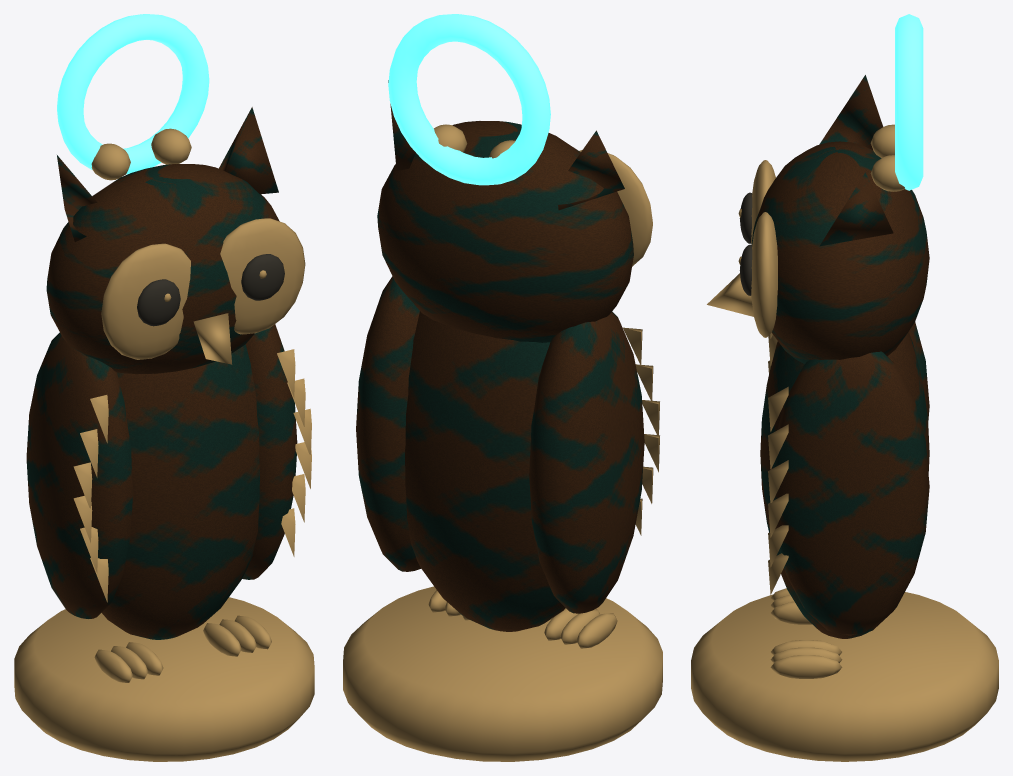
File: statuette.fbx
The picture shows the model from 3 angles, left to right: view 1: azimuth 30°, elevation 25°; view 2: azimuth 150°, elevation 25°; view 3: azimuth 270°, elevation 25°; orthographic projection. The views are drawn at different scales.
Parts seen in each view (by area): view 1: TH_S_Statuette_OwlBody, TH_S_Statuette_Plinth, TH_S_Statuette_OwlHead, TH_S_Statuette_Wing, TH_S_Statuette_Handle, TH_S_Statuette_Wing.001, TH_S_Statuette_FacialDisk, TH_S_Statuette_FacialDisk.001, TH_S_Statuette_Ear.001, TH_S_Statuette_Eye.001, TH_S_Statuette_Eye, TH_S_Statuette_Beak (+9 smaller); view 2: TH_S_Statuette_Plinth, TH_S_Statuette_OwlHead, TH_S_Statuette_OwlBody, TH_S_Statuette_Wing, TH_S_Statuette_Handle, TH_S_Statuette_Wing.001, TH_S_Statuette_FacialDisk, TH_S_Statuette_Ear, TH_S_Statuette_Talon, TH_S_Statuette_Ear.001, TH_S_Statuette_Talon.001, TH_S_Statuette_HandleMount.001 (+1 smaller); view 3: TH_S_Statuette_Plinth, TH_S_Statuette_Wing.001, TH_S_Statuette_OwlHead, TH_S_Statuette_Handle, TH_S_Statuette_OwlBody, TH_S_Statuette_FacialDisk.001, TH_S_Statuette_Ear.001, TH_S_Statuette_Ear, TH_S_Statuette_Talon.005, TH_S_Statuette_Beak, TH_S_Statuette_FacialDisk, TH_S_Statuette_HandleMount.001 (+7 smaller).
Part boxes in pixels (<box>): TH_S_Statuette_OwlBody: <box>101,344,259,639</box>; TH_S_Statuette_Plinth: <box>14,597,314,761</box>; TH_S_Statuette_OwlHead: <box>46,164,279,374</box>; TH_S_Statuette_Wing: <box>26,332,133,618</box>; TH_S_Statuette_Handle: <box>57,14,209,174</box>; TH_S_Statuette_Wing.001: <box>242,324,297,579</box>; TH_S_Statuette_FacialDisk: <box>101,243,190,359</box>; TH_S_Statuette_FacialDisk.001: <box>220,218,305,334</box>; TH_S_Statuette_Ear.001: <box>219,107,278,194</box>; TH_S_Statuette_Eye.001: <box>241,254,284,300</box>; TH_S_Statuette_Eye: <box>137,279,180,326</box>; TH_S_Statuette_Beak: <box>193,313,232,364</box>; TH_S_Statuette_Plinth: <box>343,586,662,761</box>; TH_S_Statuette_OwlHead: <box>377,121,633,342</box>; TH_S_Statuette_OwlBody: <box>405,311,565,631</box>; TH_S_Statuette_Wing: <box>529,311,644,613</box>; TH_S_Statuette_Handle: <box>388,14,550,185</box>; TH_S_Statuette_Wing.001: <box>356,276,420,571</box>; TH_S_Statuette_FacialDisk: <box>579,150,652,266</box>; TH_S_Statuette_Ear: <box>558,130,624,210</box>; TH_S_Statuette_Talon: <box>576,613,617,648</box>; TH_S_Statuette_Ear.001: <box>388,80,415,170</box>; TH_S_Statuette_Talon.001: <box>560,609,600,644</box>; TH_S_Statuette_HandleMount.001: <box>434,124,467,152</box>; TH_S_Statuette_Plinth: <box>691,592,998,761</box>; TH_S_Statuette_Wing.001: <box>772,351,929,635</box>; TH_S_Statuette_OwlHead: <box>751,141,929,363</box>; TH_S_Statuette_Handle: <box>895,14,923,190</box>; TH_S_Statuette_OwlBody: <box>760,332,929,638</box>; TH_S_Statuette_FacialDisk.001: <box>751,212,777,337</box>; TH_S_Statuette_Ear.001: <box>819,172,893,246</box>; TH_S_Statuette_Ear: <box>819,75,883,150</box>; TH_S_Statuette_Talon.005: <box>770,655,842,678</box>; TH_S_Statuette_Beak: <box>707,273,753,316</box>; TH_S_Statuette_FacialDisk: <box>751,160,775,244</box>; TH_S_Statuette_HandleMount.001: <box>870,155,904,191</box>.
Size of the model in its own units: 0.12 by 0.2925 by 0.12.
Materials: 4 (1 with a texture image).
